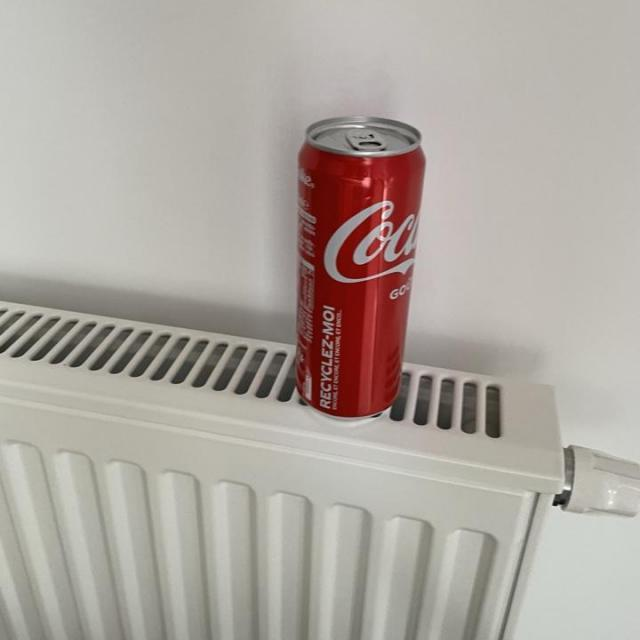recyclable: (292, 108, 432, 436)
